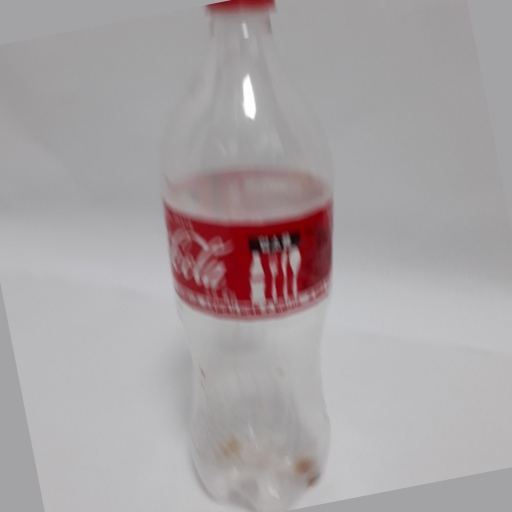Plastic_0: (162, 1, 340, 512)
